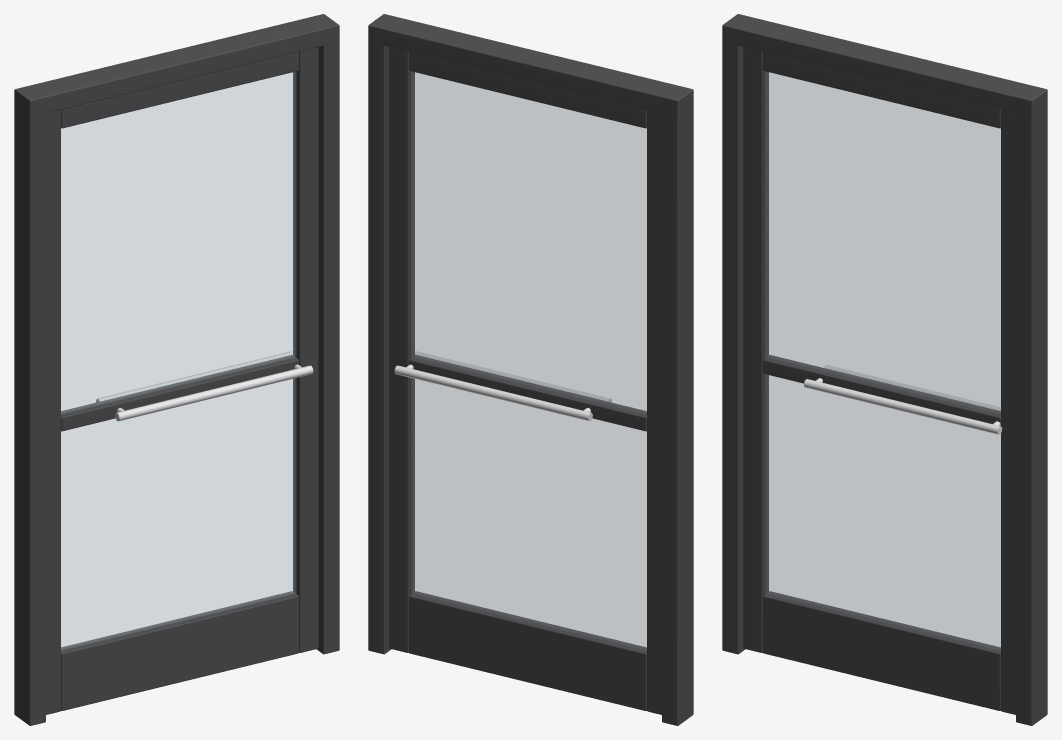
Rendered from shop_door.glb.
The picture shows the model from 3 angles, left to right: view 1: azimuth 30°, elevation 25°; view 2: azimuth 150°, elevation 25°; view 3: azimuth 330°, elevation 25°; orthographic projection.
Parts seen in each view (by area): view 1: door_leaf, door_frame; view 2: door_leaf, door_frame; view 3: door_leaf, door_frame.
Boxes of the visible parts, x1,y1,x2,y2 form: door_leaf: (46,47,318,714); door_frame: (14,14,339,725); door_leaf: (389,47,661,714); door_frame: (368,14,693,725); door_leaf: (743,47,1015,714); door_frame: (722,14,1047,725).
Bounding box in the file's own units: 1.12 × 2.16 × 0.148.
